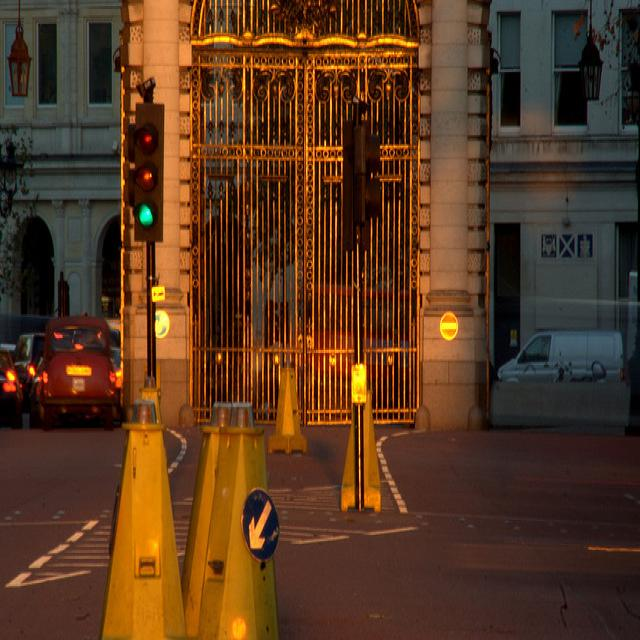Vehicle: (31, 318, 121, 426), (497, 328, 623, 386), (12, 332, 49, 414), (0, 346, 26, 430), (112, 319, 120, 348)
